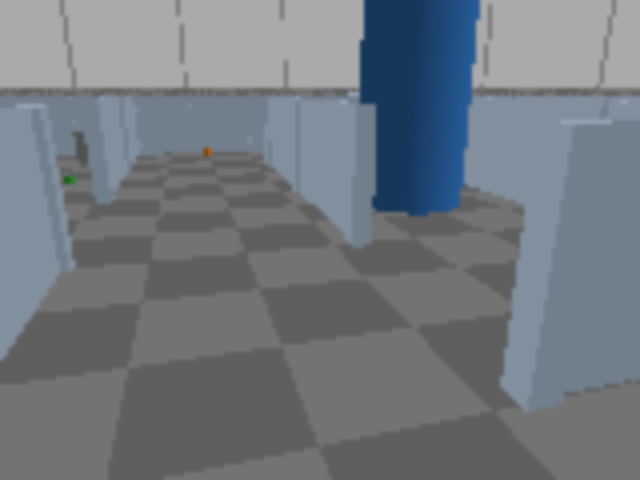obstacle: (73, 130, 101, 165)
